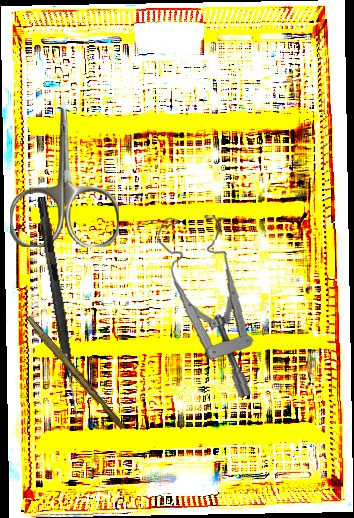Hook Surgical: (33, 196, 86, 422)
Iris Scissors: (10, 101, 119, 247)
Scalpel Handle: (22, 315, 128, 431)
Speculum: (146, 211, 264, 397)
